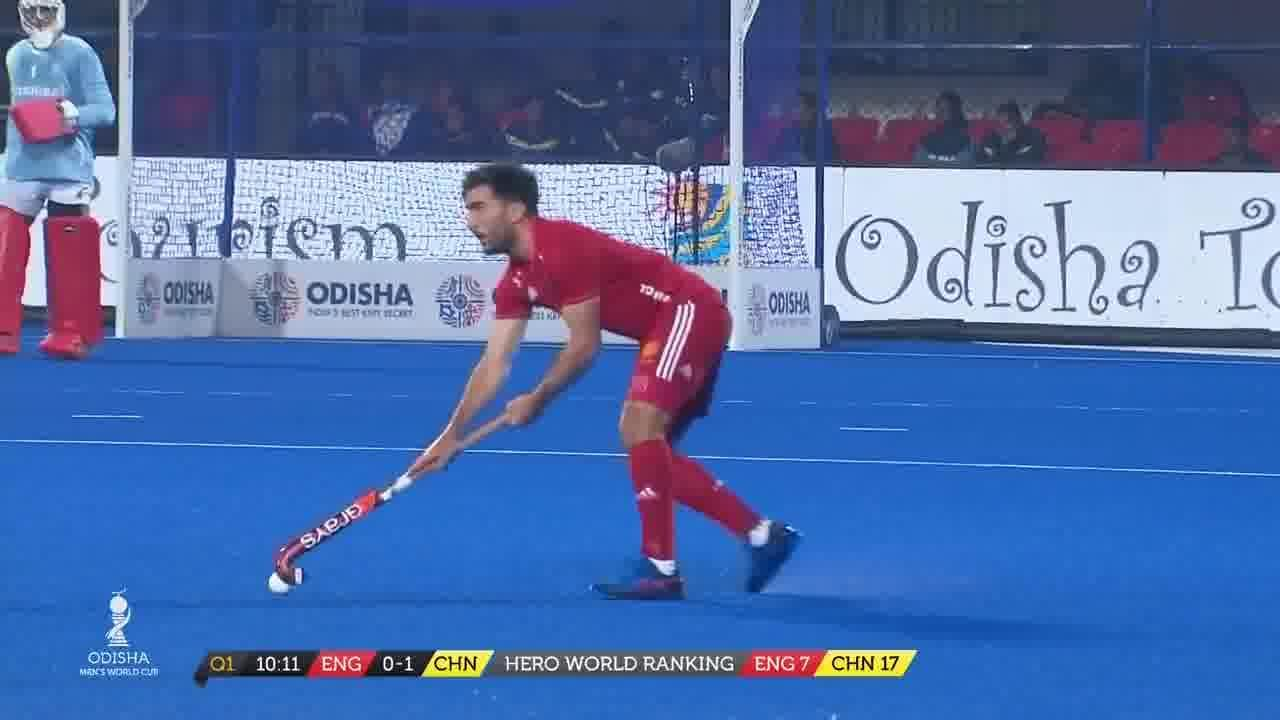ball: (271, 558, 305, 595)
